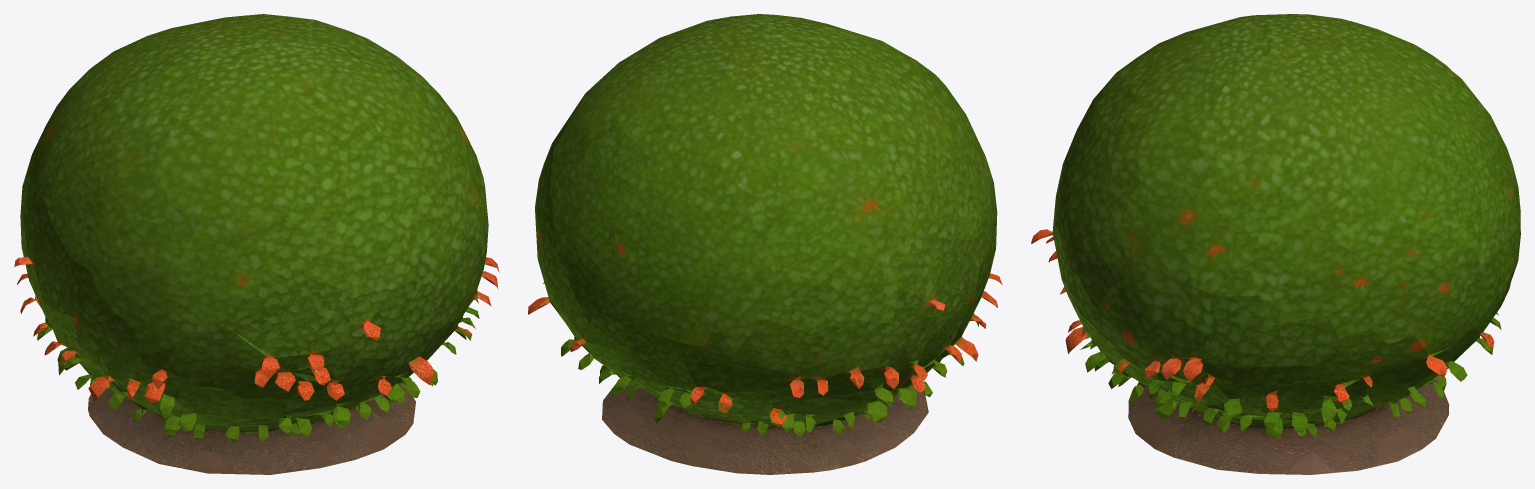
Rendered from remeshed-shrub-3000.glb.
The picture shows the model from 3 angles, left to right: view 1: azimuth 30°, elevation 25°; view 2: azimuth 150°, elevation 25°; view 3: azimuth 270°, elevation 25°; orthographic projection.
Visible parts, largest first — view 1: output_unwrapped; view 2: output_unwrapped; view 3: output_unwrapped.
Part boxes in pixels (left/top/right/bottom): output_unwrapped: left=14, top=14, right=499, bottom=474; output_unwrapped: left=528, top=14, right=1002, bottom=474; output_unwrapped: left=1031, top=14, right=1520, bottom=474.
Size of the model in its own units: 1.92 by 1.66 by 2.
1 material, 1 textured.
